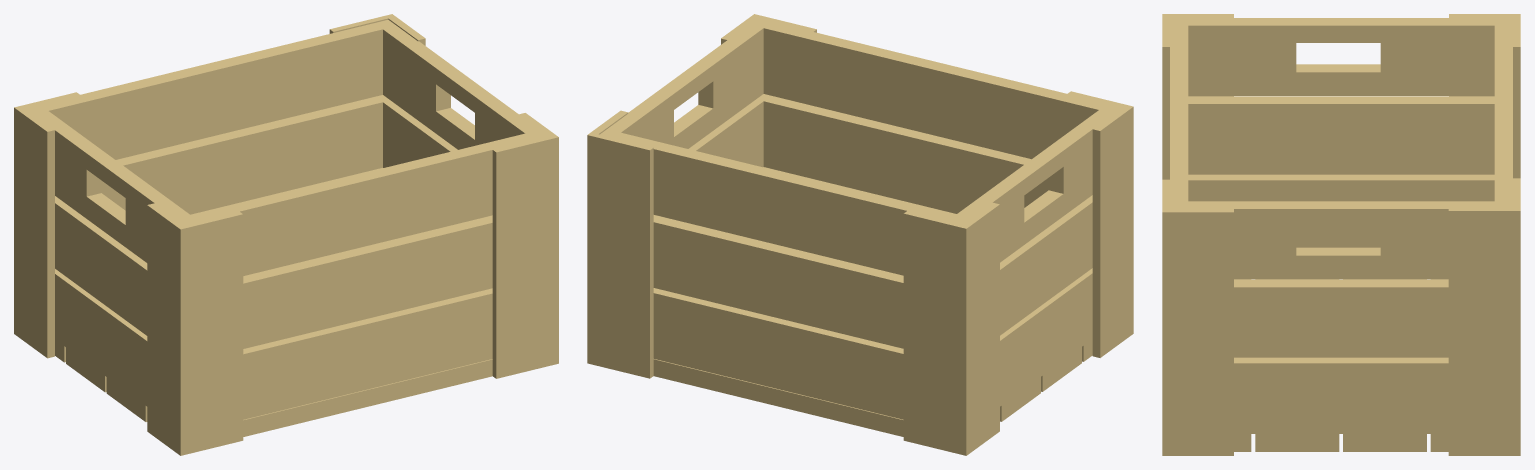
File: (old)GEO_TreeBox.fbx
3 renders of one model, left to right at view 1: azimuth 30°, elevation 25°; view 2: azimuth 150°, elevation 25°; view 3: azimuth 270°, elevation 25°, orthographic. The views are drawn at different scales.
Parts seen in each view (by area): view 1: TreeBox; view 2: TreeBox; view 3: TreeBox.
Part boxes in pixels (x1,y1,x2,y2): TreeBox: (14,14,558,455); TreeBox: (587,14,1133,455); TreeBox: (1162,14,1520,455).
Size of the model in its own units: 65.8 by 37.85 by 50.21.
